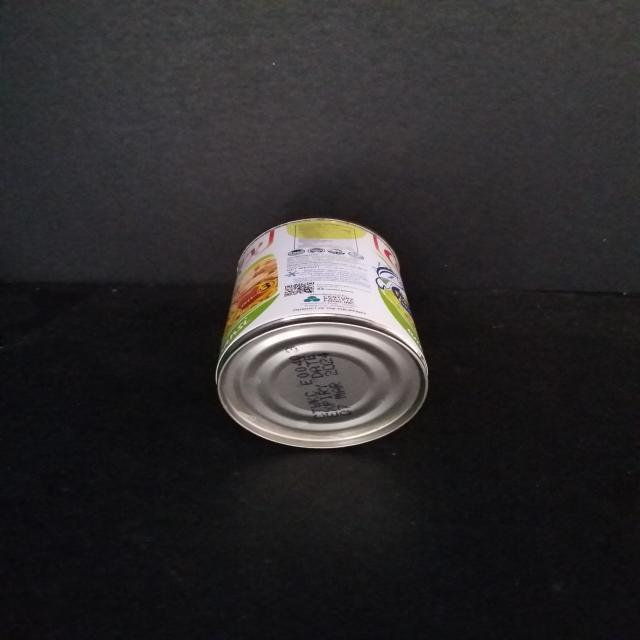metal-can: (210, 216, 430, 452)
